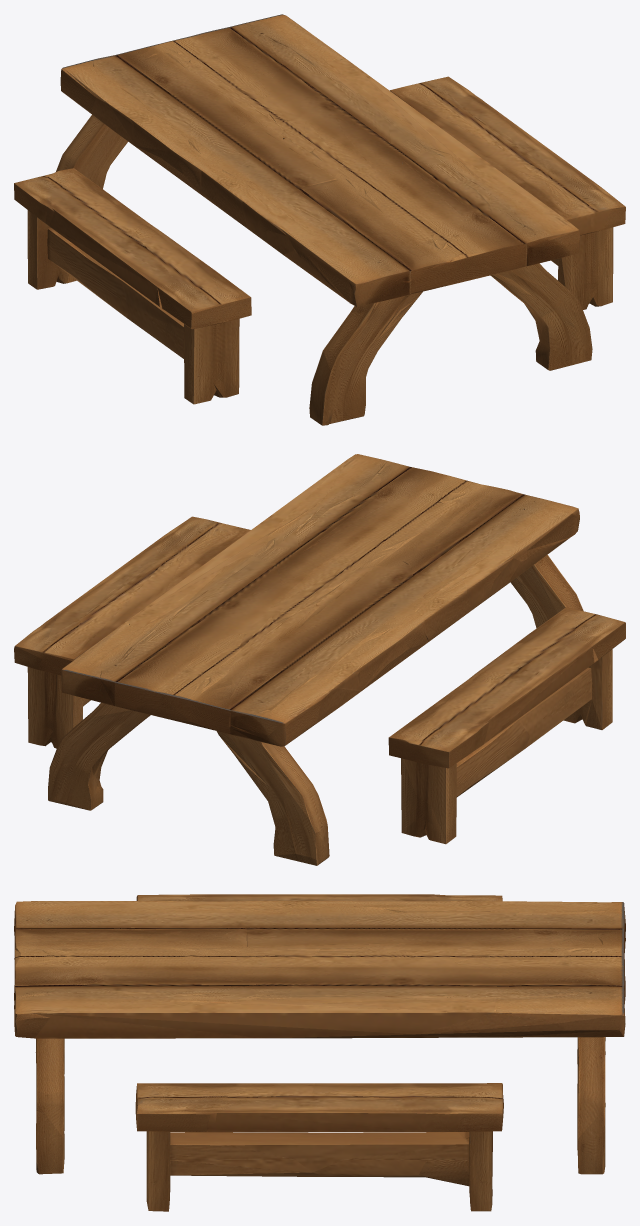
The model's file is picnic_table_long.glb.
3 renders of one model, top to bottom at view 1: azimuth 30°, elevation 25°; view 2: azimuth 150°, elevation 25°; view 3: azimuth 270°, elevation 25°, orthographic. The views are drawn at different scales.
Size of the model in its own units: 1.61 by 0.5173 by 1.9.
Materials: 1 (1 with a texture image).
